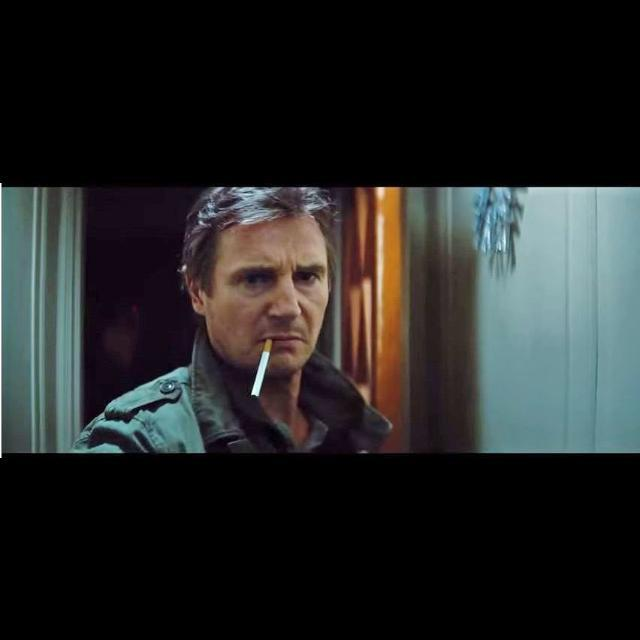rokok: (245, 334, 277, 402)
